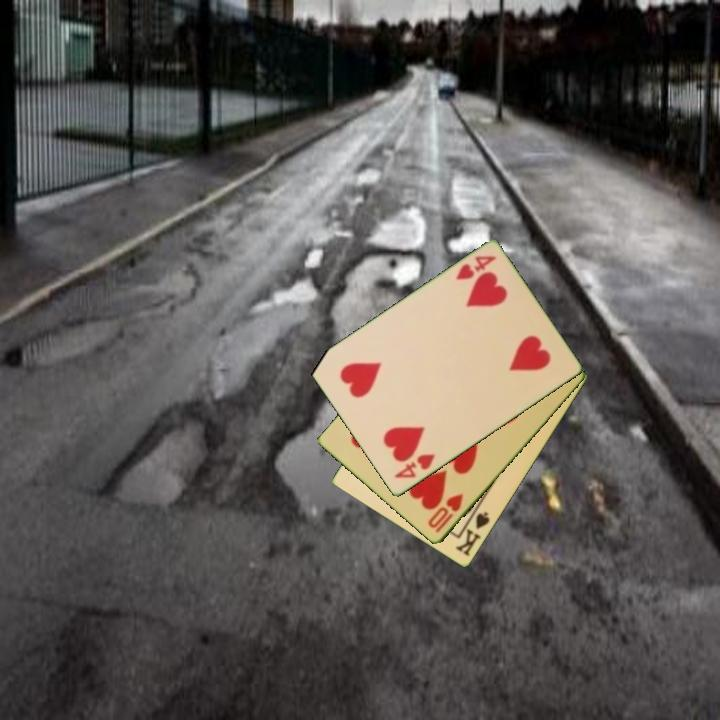10h: (425, 490, 466, 536)
4h: (391, 450, 438, 482), (452, 252, 500, 283)
Ks: (452, 504, 493, 560)
